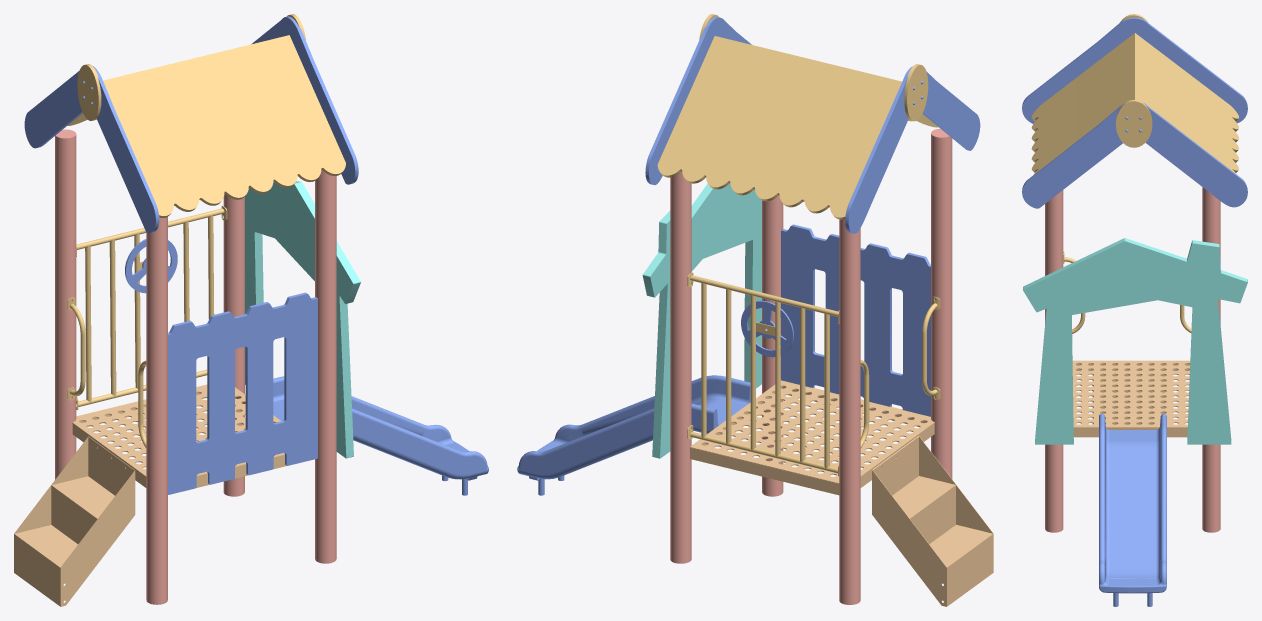
File: slide.fbx
3 renders of one model, left to right at view 1: azimuth 30°, elevation 25°; view 2: azimuth 150°, elevation 25°; view 3: azimuth 270°, elevation 25°, orthographic. The views are drawn at different scales.
Parts seen in each view (by area): view 1: Line10917, 1mpostwroof045, Group_021, RIA Staircase 0.7m:1.001, Line009, Mini Slide Leg (wall plug):1, Arc04, RIA Steering Wheel Rail 800L:1.001, Rectangle02, Arc05, RIA Loop Handle 575L:2, Circle51 (+2 smaller); view 2: Line10917, 1mpostwroof045, Group_021, RIA Staircase 0.7m:1.001, Line009, Rectangle02, Mini Slide Leg (wall plug):1, RIA Steering Wheel Rail 800L:1.001, Arc04, Arc05, Rectangle02.001, PE Steering Wheel:1 (+2 smaller); view 3: Line009, Line10917, Mini Slide Leg (wall plug):1, Rectangle02, Arc05, 1mpostwroof045, Arc04, Circle52, Rectangle02.001, RIA Staircase 0.7m:1.001, RIA Loop Handle 575L:2.
Part boxes in pixels (x1=…): Line10917: x1=67, y1=35, x2=345, y2=217; 1mpostwroof045: x1=55, y1=129, x2=336, y2=604; Group_021: x1=168, y1=292, x2=317, y2=494; RIA Staircase 0.7m:1.001: x1=14, y1=436, x2=135, y2=606; Line009: x1=245, y1=181, x2=360, y2=458; Mini Slide Leg (wall plug):1: x1=273, y1=376, x2=488, y2=495; Arc04: x1=24, y1=66, x2=159, y2=233; RIA Steering Wheel Rail 800L:1.001: x1=76, y1=205, x2=227, y2=409; Rectangle02: x1=72, y1=384, x2=284, y2=477; Arc05: x1=251, y1=16, x2=358, y2=184; RIA Loop Handle 575L:2: x1=67, y1=297, x2=146, y2=447; Circle51: x1=77, y1=64, x2=101, y2=120; Line10917: x1=657, y1=36, x2=938, y2=219; 1mpostwroof045: x1=670, y1=128, x2=952, y2=604; Group_021: x1=781, y1=224, x2=930, y2=416; RIA Staircase 0.7m:1.001: x1=872, y1=436, x2=993, y2=606; Line009: x1=642, y1=183, x2=761, y2=458; Rectangle02: x1=690, y1=380, x2=934, y2=483; Mini Slide Leg (wall plug):1: x1=517, y1=375, x2=750, y2=495; RIA Steering Wheel Rail 800L:1.001: x1=687, y1=272, x2=839, y2=476; Arc04: x1=845, y1=66, x2=980, y2=233; Arc05: x1=645, y1=17, x2=751, y2=185; Rectangle02.001: x1=690, y1=386, x2=934, y2=495; PE Steering Wheel:1: x1=741, y1=300, x2=793, y2=357; Line009: x1=1023, y1=238, x2=1247, y2=444; Line10917: x1=1031, y1=33, x2=1238, y2=174; Mini Slide Leg (wall plug):1: x1=1099, y1=414, x2=1166, y2=606; Rectangle02: x1=1072, y1=360, x2=1190, y2=427; Arc05: x1=1022, y1=102, x2=1247, y2=208; 1mpostwroof045: x1=1045, y1=187, x2=1220, y2=532; Arc04: x1=1022, y1=17, x2=1247, y2=123; Circle52: x1=1115, y1=100, x2=1152, y2=147; Rectangle02.001: x1=1073, y1=364, x2=1190, y2=437; RIA Staircase 0.7m:1.001: x1=1092, y1=374, x2=1166, y2=424; RIA Loop Handle 575L:2: x1=1063, y1=251, x2=1191, y2=333.
Size of what is drawn, in the model's own units: 268 by 301 by 140.
